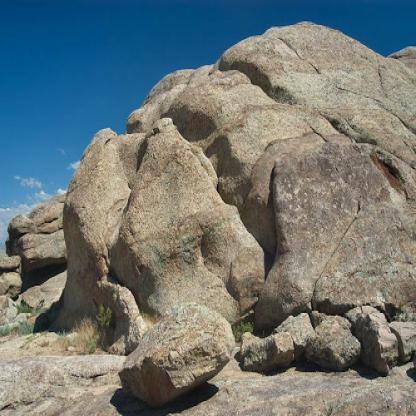Igneous_Granite: (131, 114, 263, 311), (271, 122, 415, 290), (45, 129, 131, 342), (126, 281, 244, 414), (350, 297, 399, 376), (308, 304, 353, 384)
